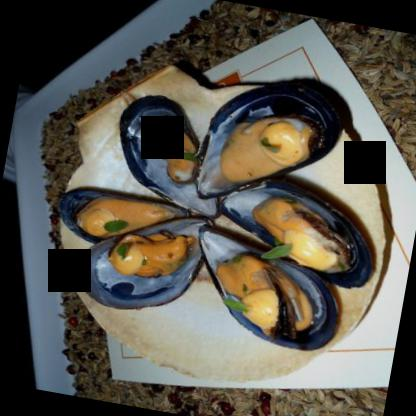mussel: (183, 215, 348, 356), (188, 72, 332, 212), (213, 172, 382, 286), (103, 90, 235, 214), (78, 199, 209, 319), (54, 178, 192, 258)
